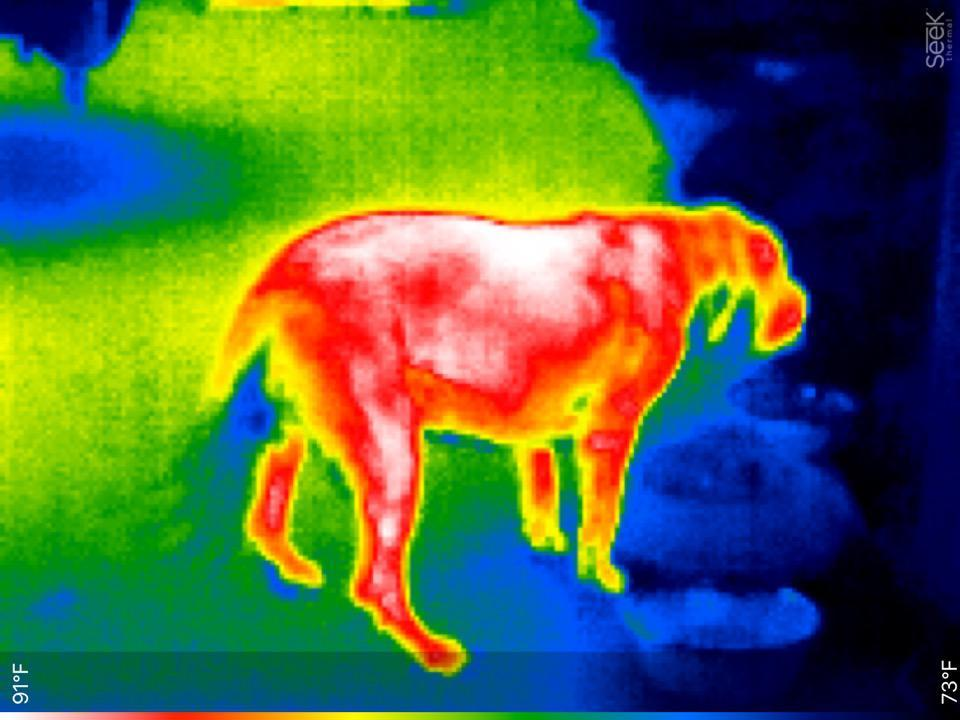dog: (190, 197, 816, 681)
